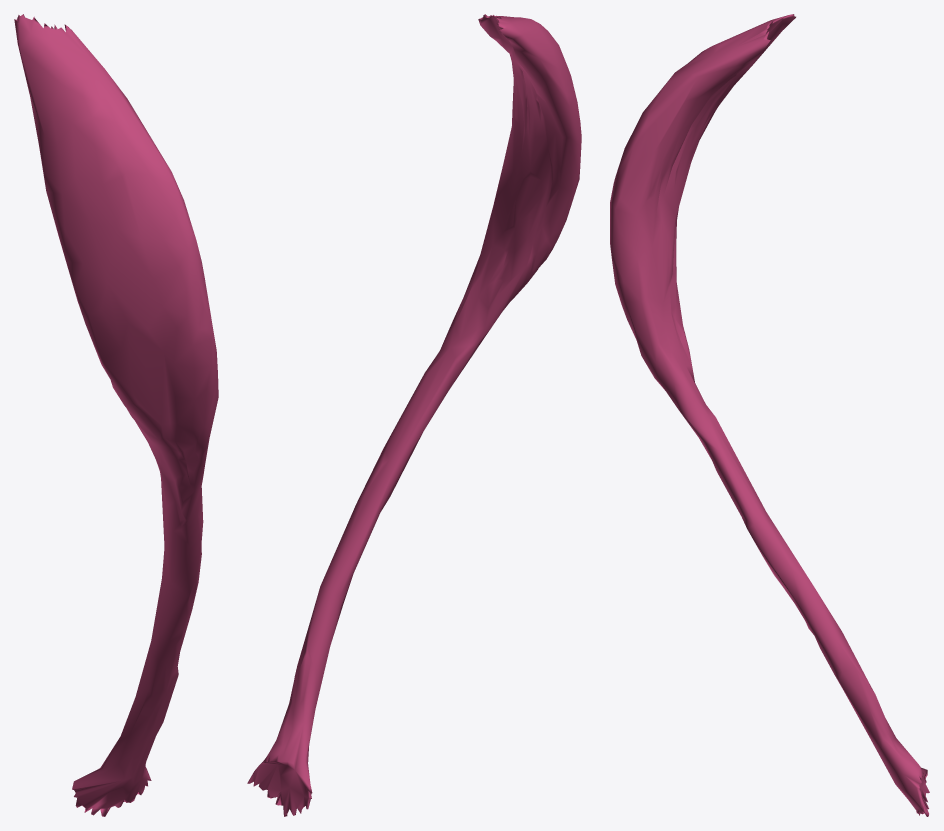
3 renders of one model, left to right at view 1: azimuth 30°, elevation 25°; view 2: azimuth 150°, elevation 25°; view 3: azimuth 270°, elevation 25°, orthographic. The views are drawn at different scales.
Visible parts, largest first — view 1: 右侧踇短伸肌; view 2: 右侧踇短伸肌; view 3: 右侧踇短伸肌.
Part boxes in pixels (bbox=[...]): 右侧踇短伸肌: bbox=[14, 14, 218, 816]; 右侧踇短伸肌: bbox=[247, 14, 581, 816]; 右侧踇短伸肌: bbox=[610, 14, 929, 816].
Size of the model in its own units: 0.0499 by 0.1795 by 0.0706.
